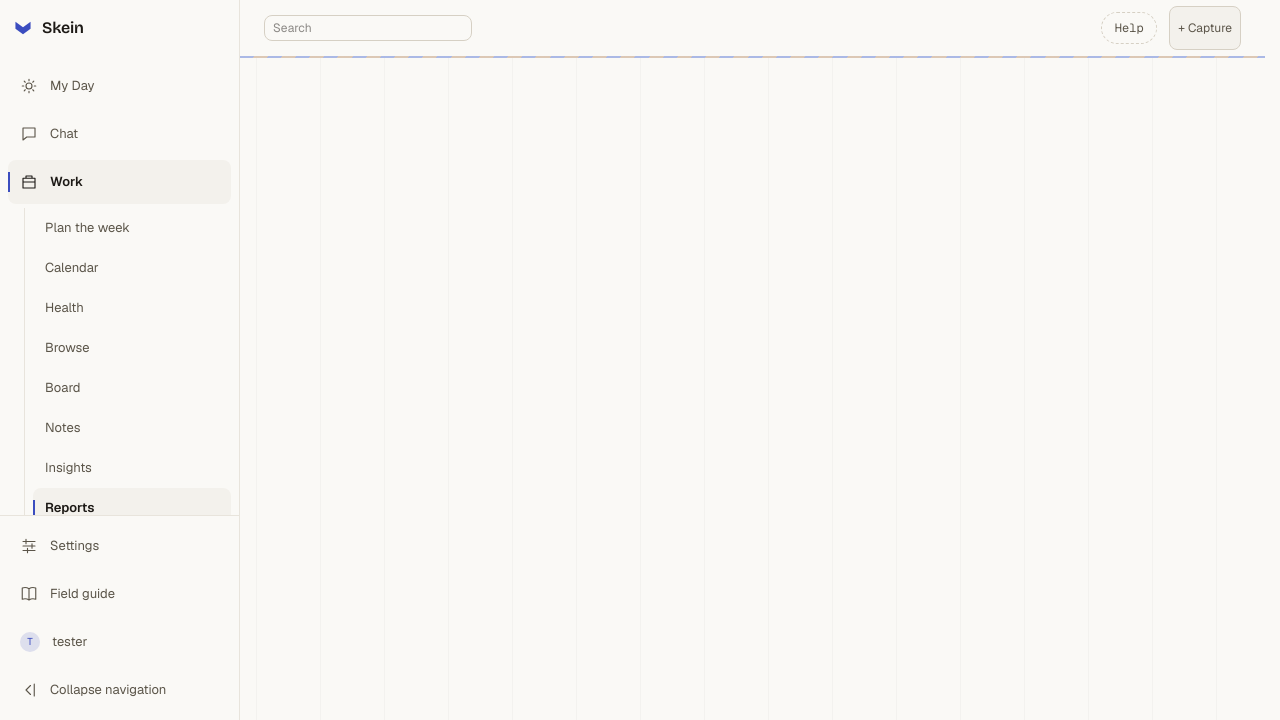
Scenario: the navigation shell › still collapses when browser storage is blocked
Step 1. Click the button "Collapse navigation" → (120, 690), box [8,668,231,712]
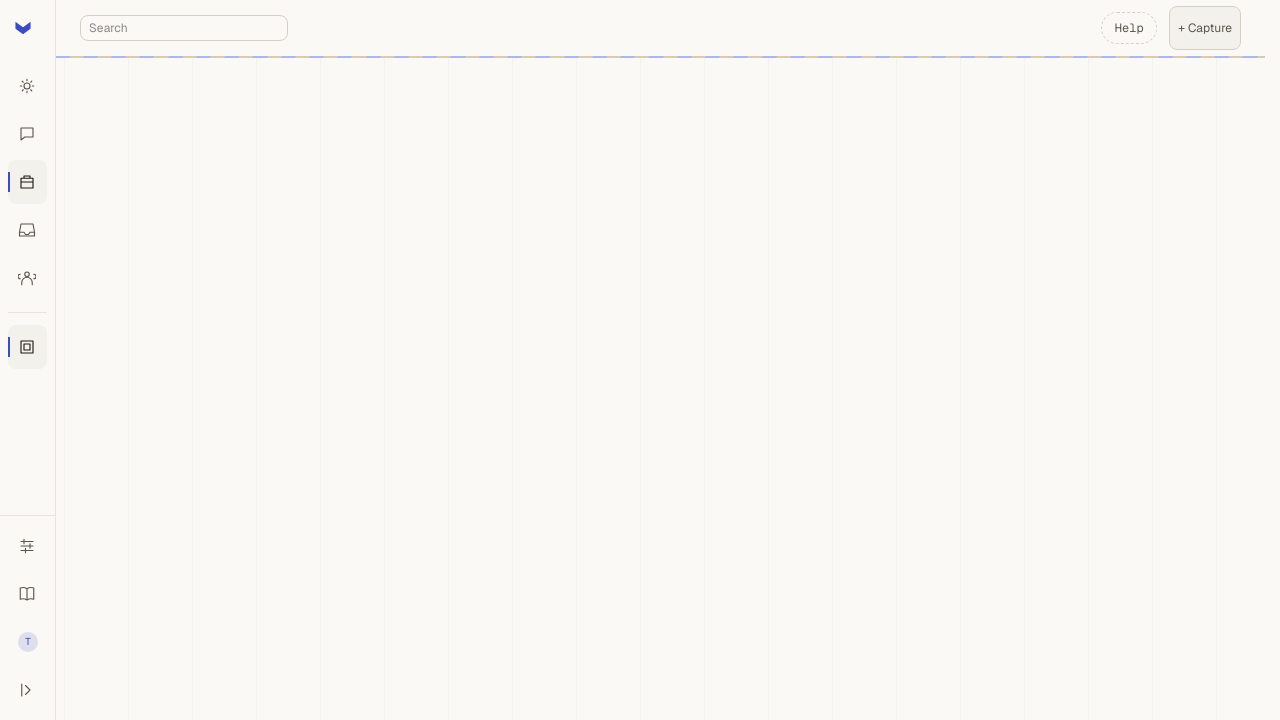
Expected: the button "Expand navigation" is shown, [8,668,47,712]
